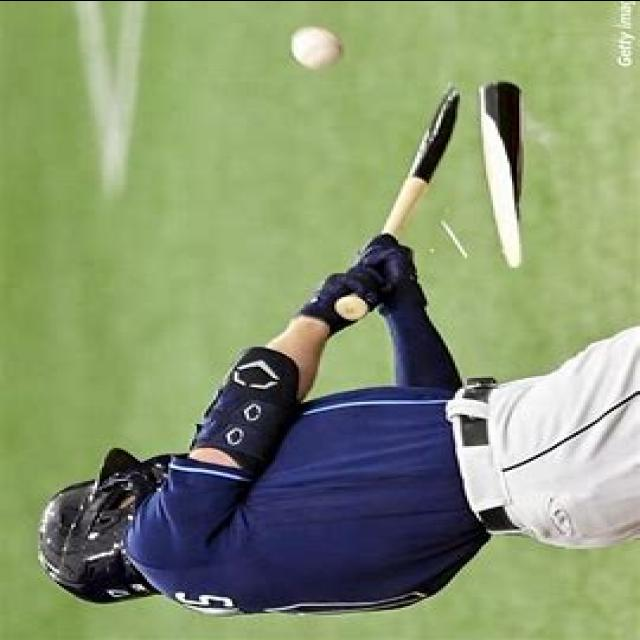ball: (288, 24, 342, 70)
